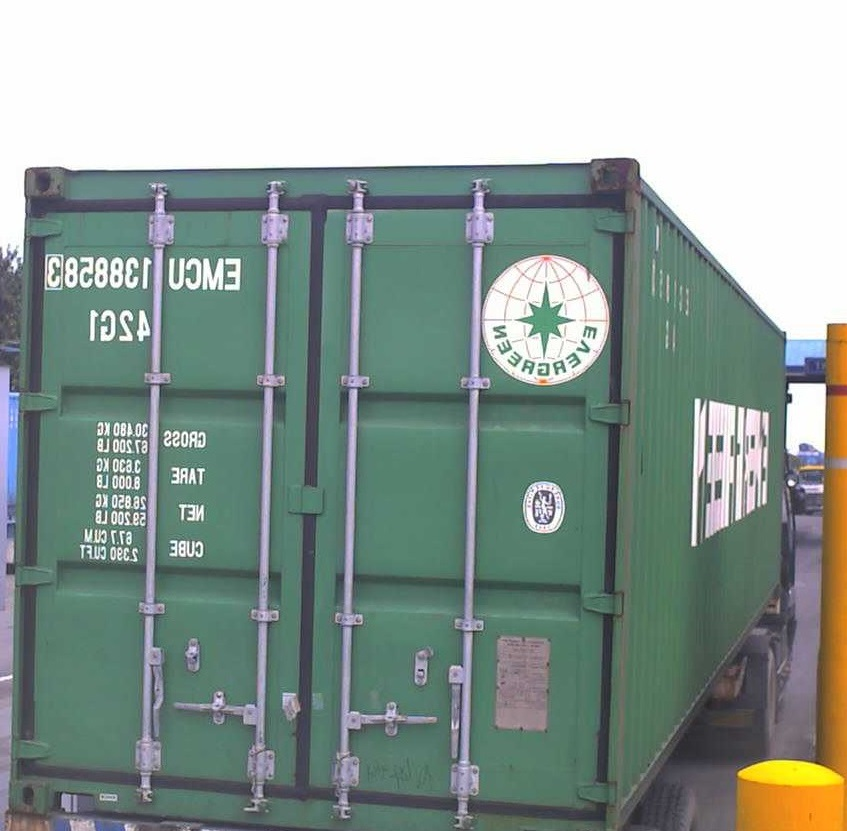container_door: (13, 160, 636, 828)
